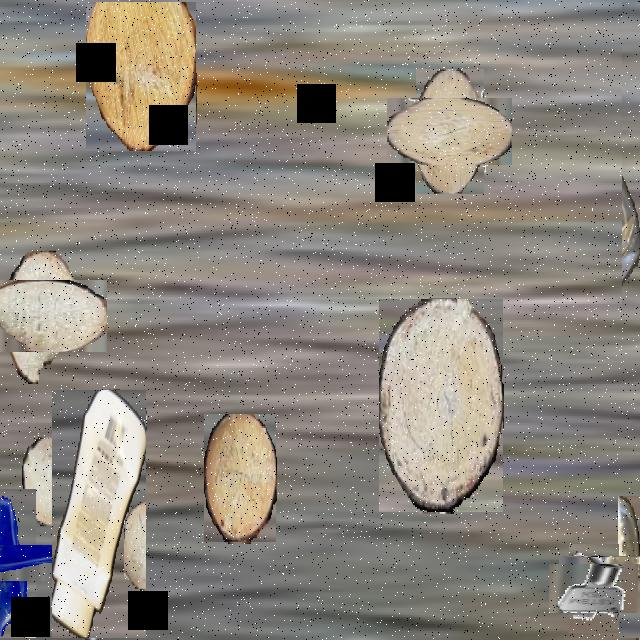glass: (0, 517, 64, 609)
metal: (559, 554, 629, 623), (470, 108, 508, 176)
plastic: (52, 390, 146, 638), (622, 2, 640, 314), (588, 526, 640, 608)
wood: (379, 299, 503, 512), (86, 2, 196, 151), (0, 265, 92, 367), (402, 83, 498, 180), (204, 414, 276, 542), (22, 438, 74, 526)
